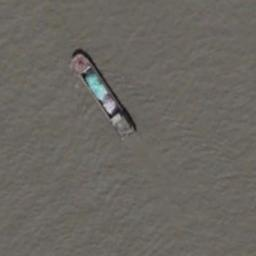boat: (70, 49, 136, 139)
